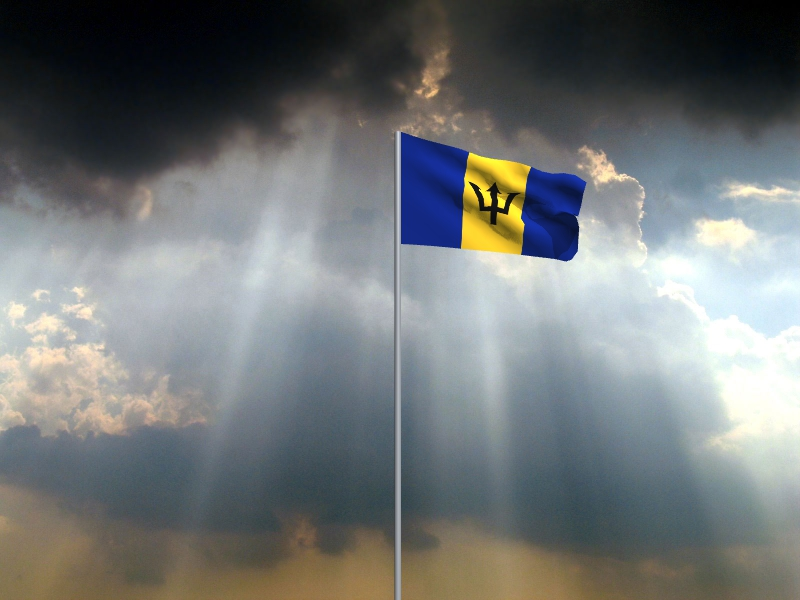bb: (402, 133, 588, 263)
